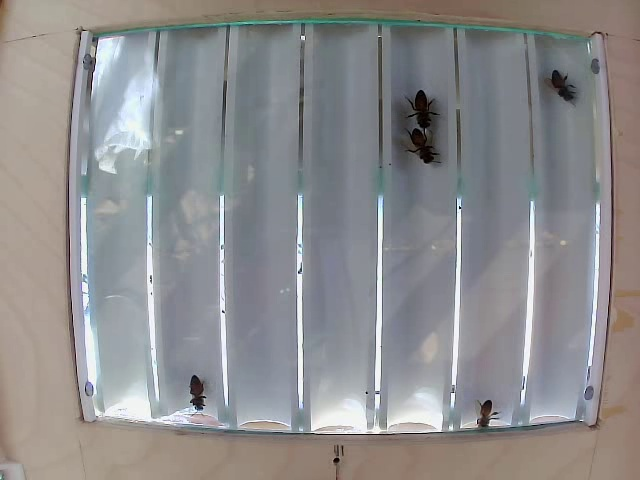bee: (402, 80, 447, 129), (184, 373, 220, 419), (543, 67, 586, 104), (405, 130, 443, 167), (469, 397, 505, 425)
